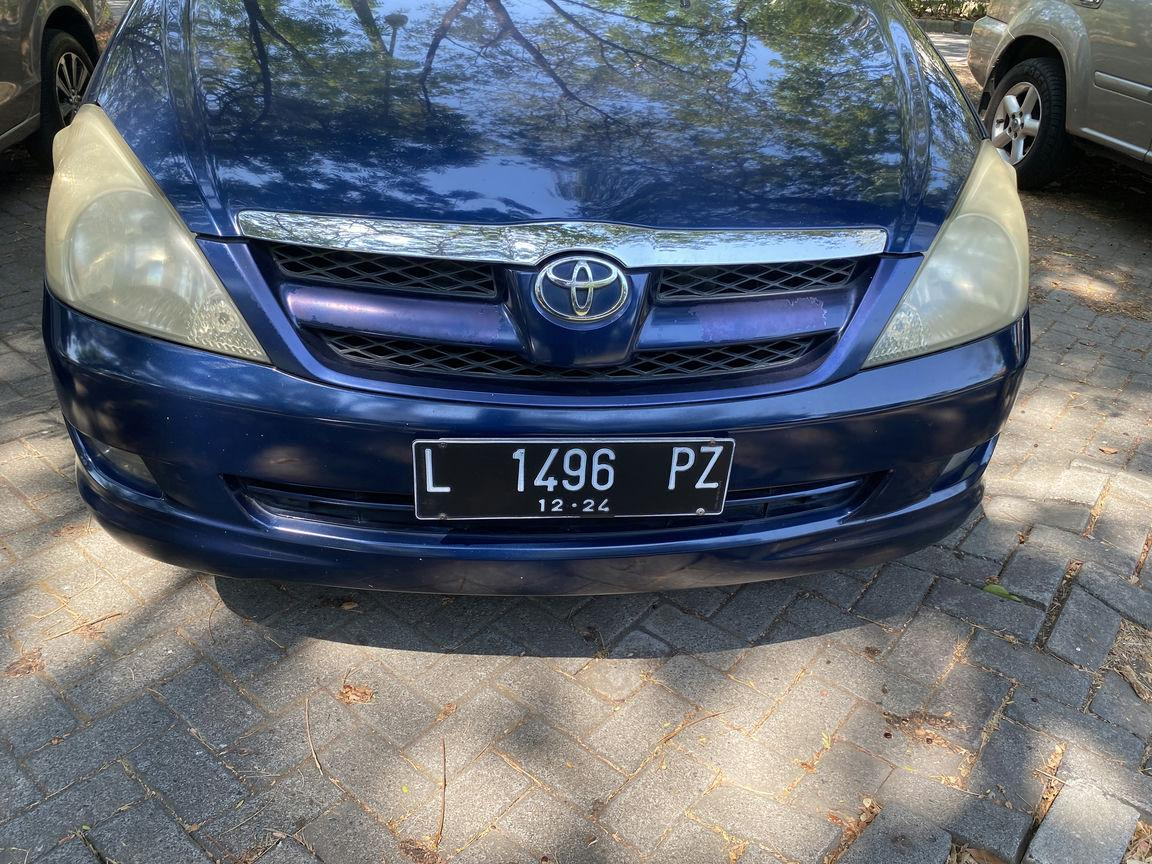plat: (414, 439, 736, 520)
